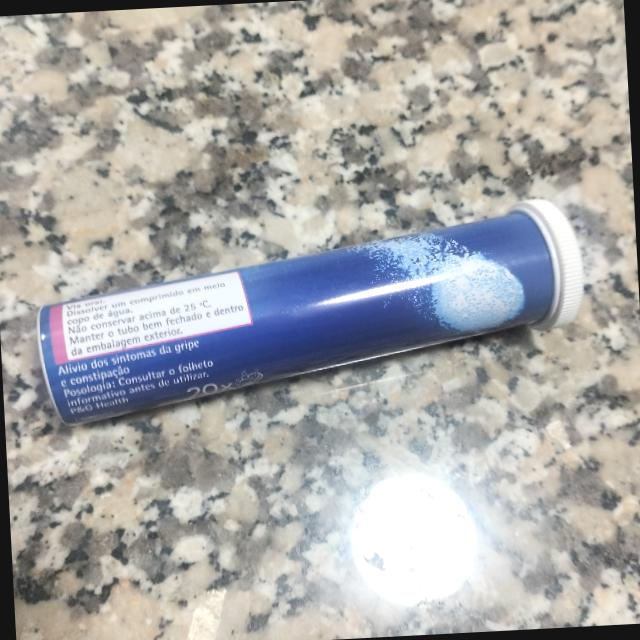tubo_efervescente: (29, 192, 592, 430)
